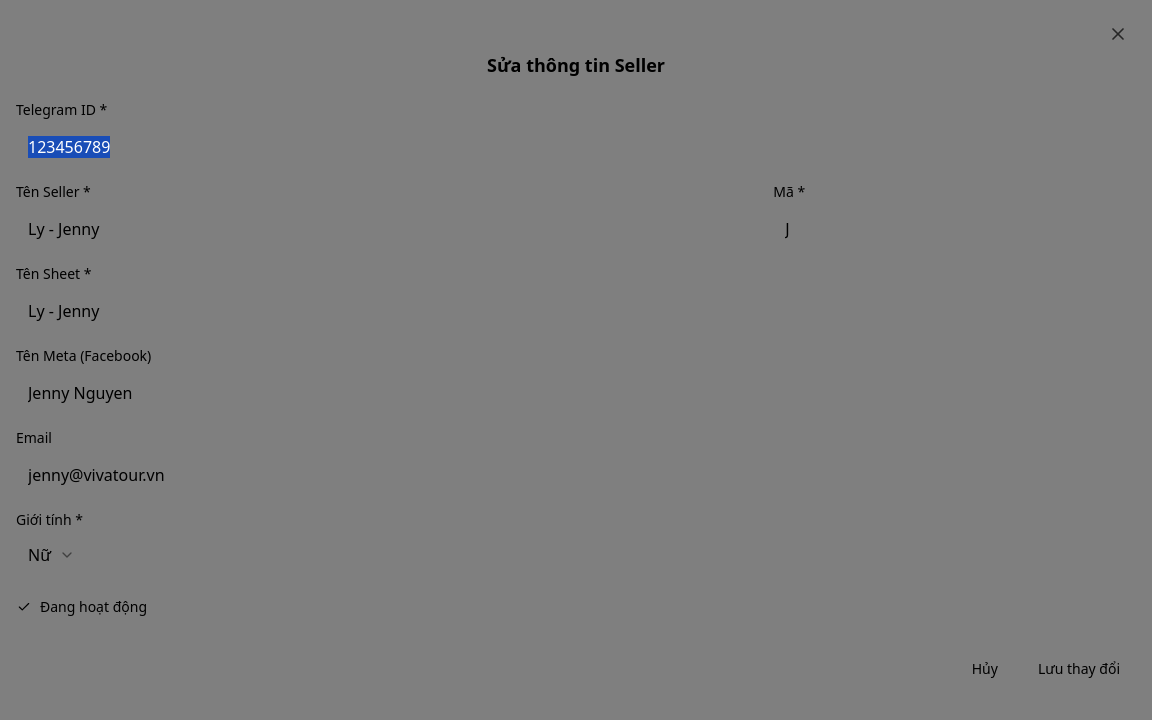
Test: SellerFormModal › State › shows loading text while submitting
Click the button "Lưu thay đổi": (1079, 669) [1022, 647, 1136, 691]
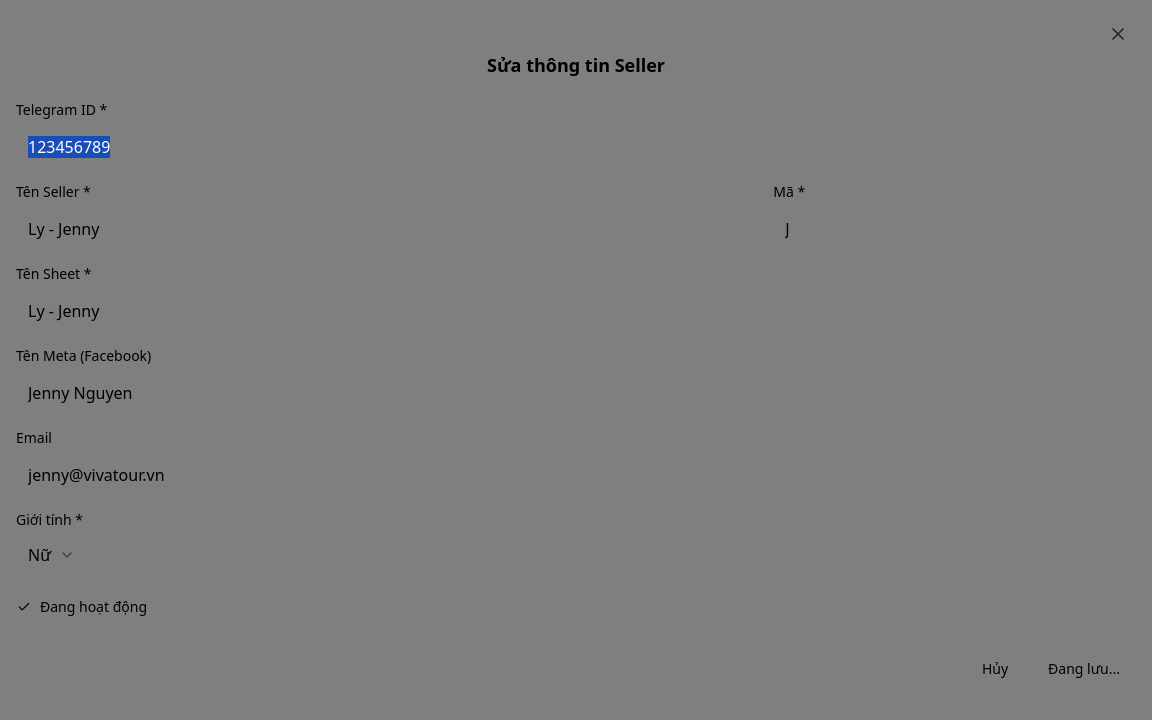
expect the button "Đang lưu..." is shown: met, box [1032, 647, 1136, 691]
